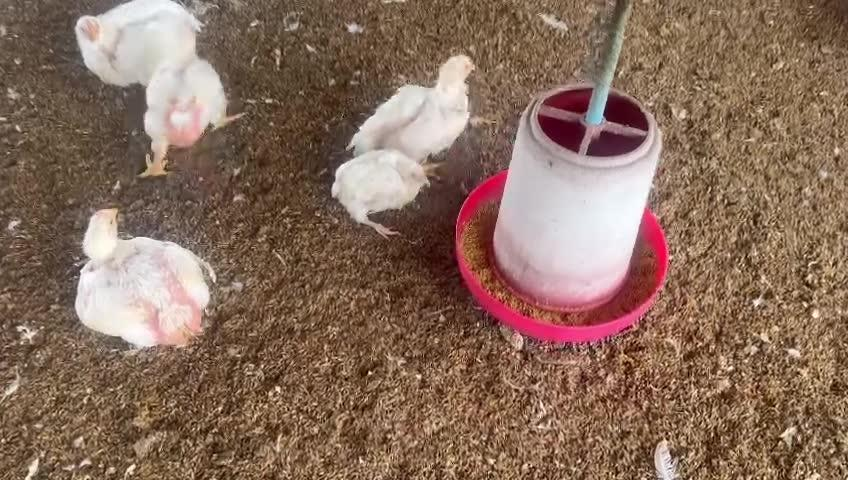AbNormal: (77, 207, 213, 351), (352, 54, 474, 175), (329, 148, 443, 239)
Normal: (141, 48, 234, 172), (76, 0, 194, 84)
